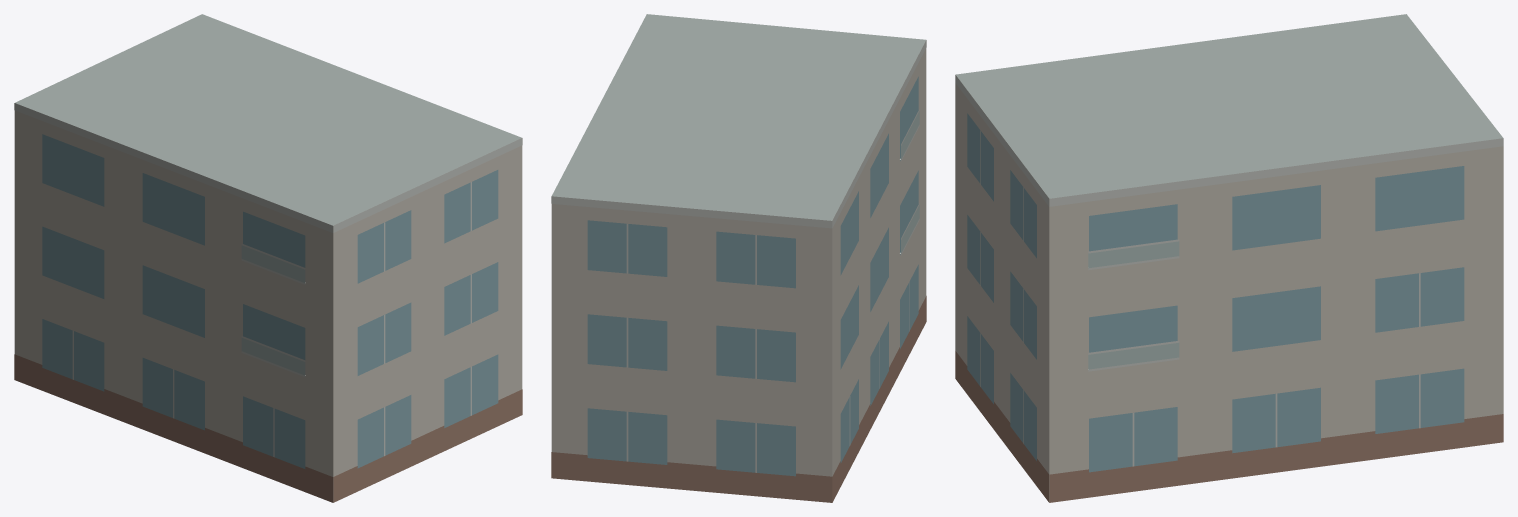
File: survey-upis-32948321.glb
The picture shows the model from 3 angles, left to right: view 1: azimuth 30°, elevation 25°; view 2: azimuth 150°, elevation 25°; view 3: azimuth 270°, elevation 25°; orthographic projection. The views are drawn at different scales.
Visible parts, largest first — view 1: survey-upis-32948321.tmp; view 2: survey-upis-32948321.tmp; view 3: survey-upis-32948321.tmp.
Boxes of the visible parts, left/top/right/bottom form: survey-upis-32948321.tmp: left=14, top=14, right=522, bottom=502; survey-upis-32948321.tmp: left=551, top=14, right=926, bottom=502; survey-upis-32948321.tmp: left=955, top=14, right=1503, bottom=502.
Size of the model in its own units: 11.93 by 9.15 by 14.96.
